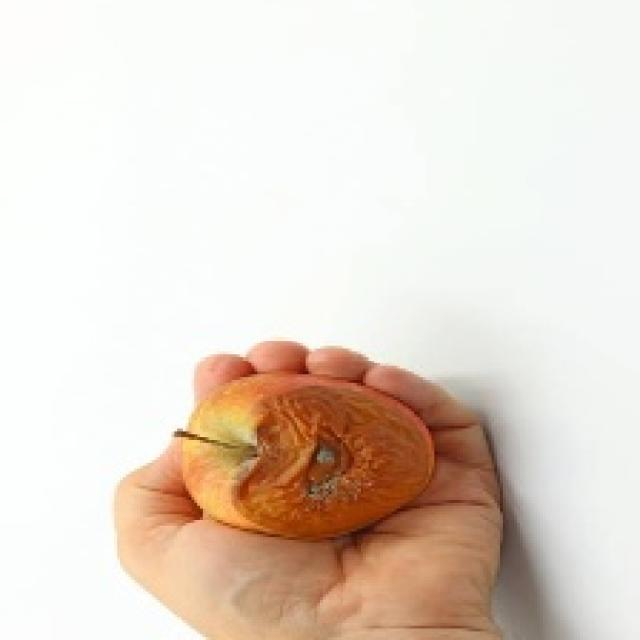rotten_apple: (193, 378, 428, 524)
